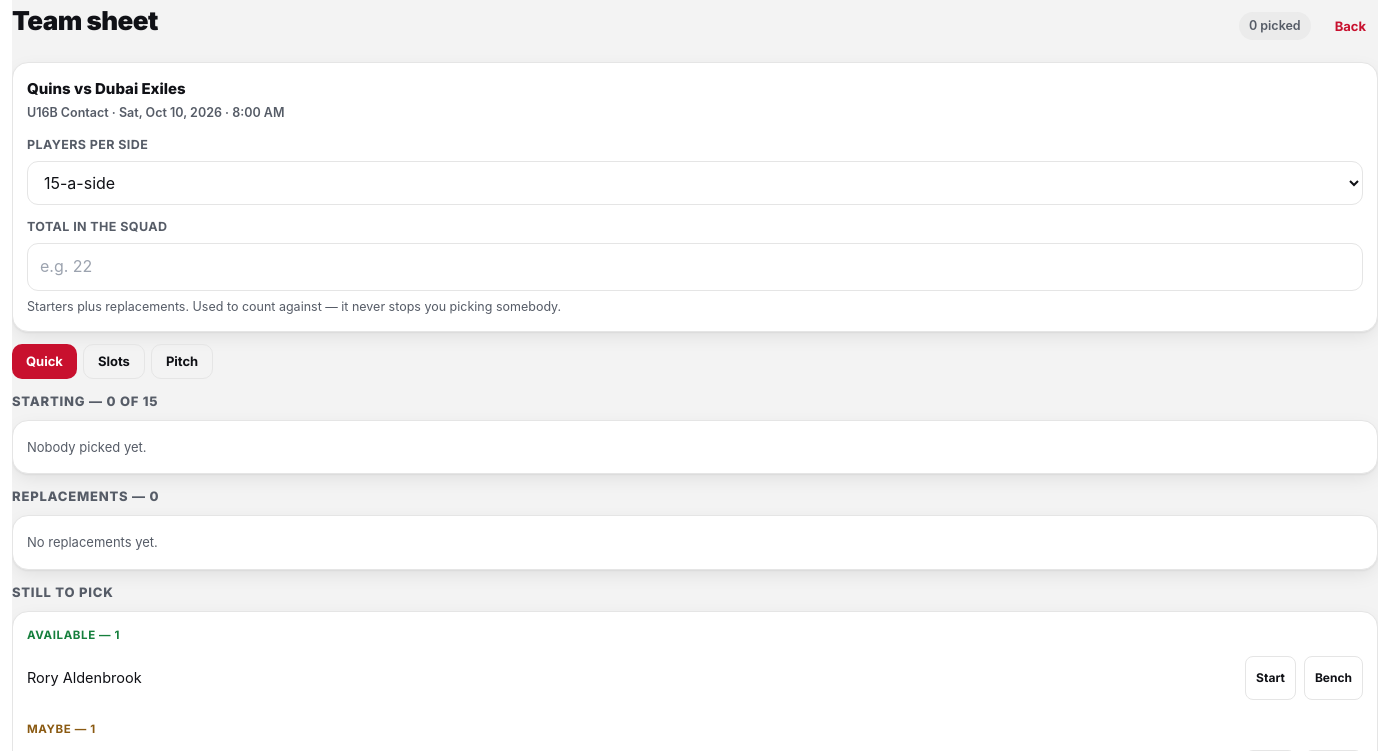
Test: picking › moves a player out of the pool and into the starting list
The width and height of the screenshot is (1390, 751).
Expected: the text "Rory Aldenbrook" is shown, [27, 670, 142, 686]
Step 1. Click the button "Start" in the row of "Rory Aldenbrook" → (1270, 678), box [1245, 656, 1296, 700]
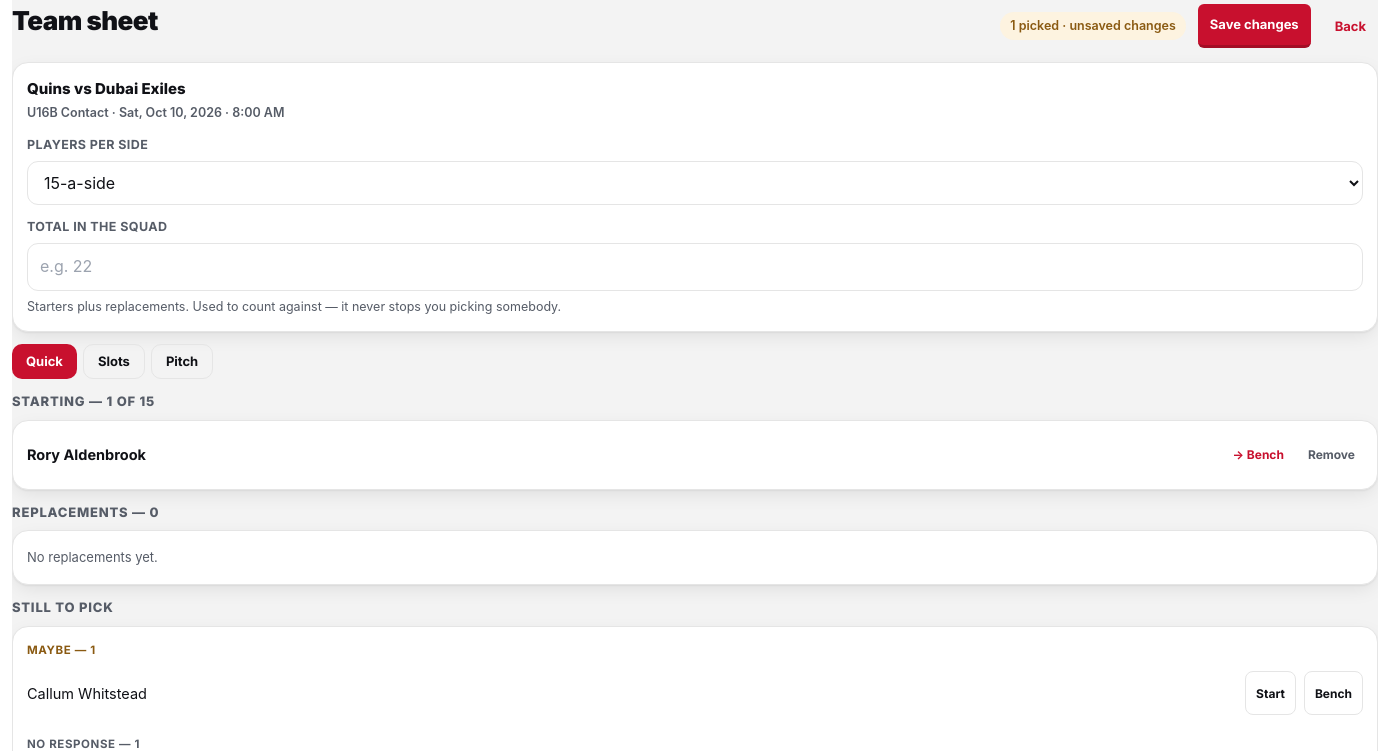
Expected: the heading "Starting — 1 of 15" is shown, [12, 391, 155, 412]
Expected: the text "Available — 1" is gone
